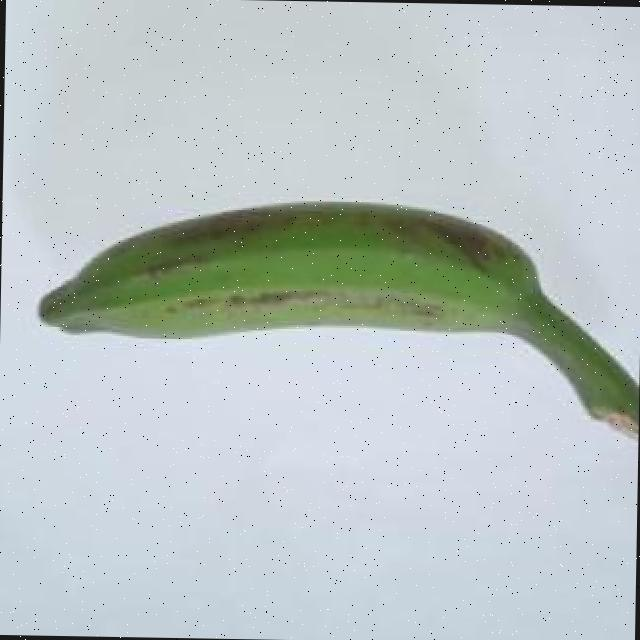Unripe: (31, 195, 640, 440)
